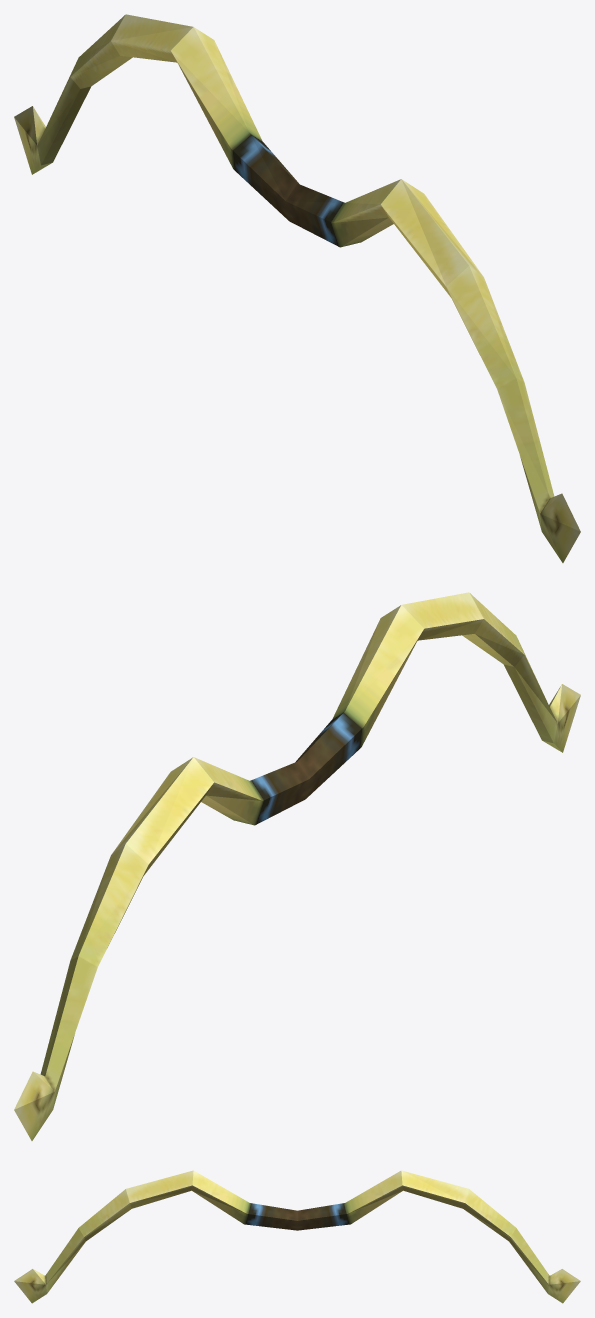
File: Chameleon_cupidBow_bow.obj
The picture shows the model from 3 angles, top to bottom: view 1: azimuth 30°, elevation 25°; view 2: azimuth 150°, elevation 25°; view 3: azimuth 270°, elevation 25°; orthographic projection. The views are drawn at different scales.
Visible parts, largest first — view 1: Chameleon_cupidBow_tri [bow]; view 2: Chameleon_cupidBow_tri [bow]; view 3: Chameleon_cupidBow_tri [bow].
Boxes of the visible parts, x1,y1,x2,y2 form: Chameleon_cupidBow_tri [bow]: [14, 14, 580, 562]; Chameleon_cupidBow_tri [bow]: [14, 592, 580, 1140]; Chameleon_cupidBow_tri [bow]: [14, 1170, 580, 1303].
Size of the model in its own units: 0.0391 by 0.2285 by 0.8816.
Materials: 1 (1 with a texture image).
